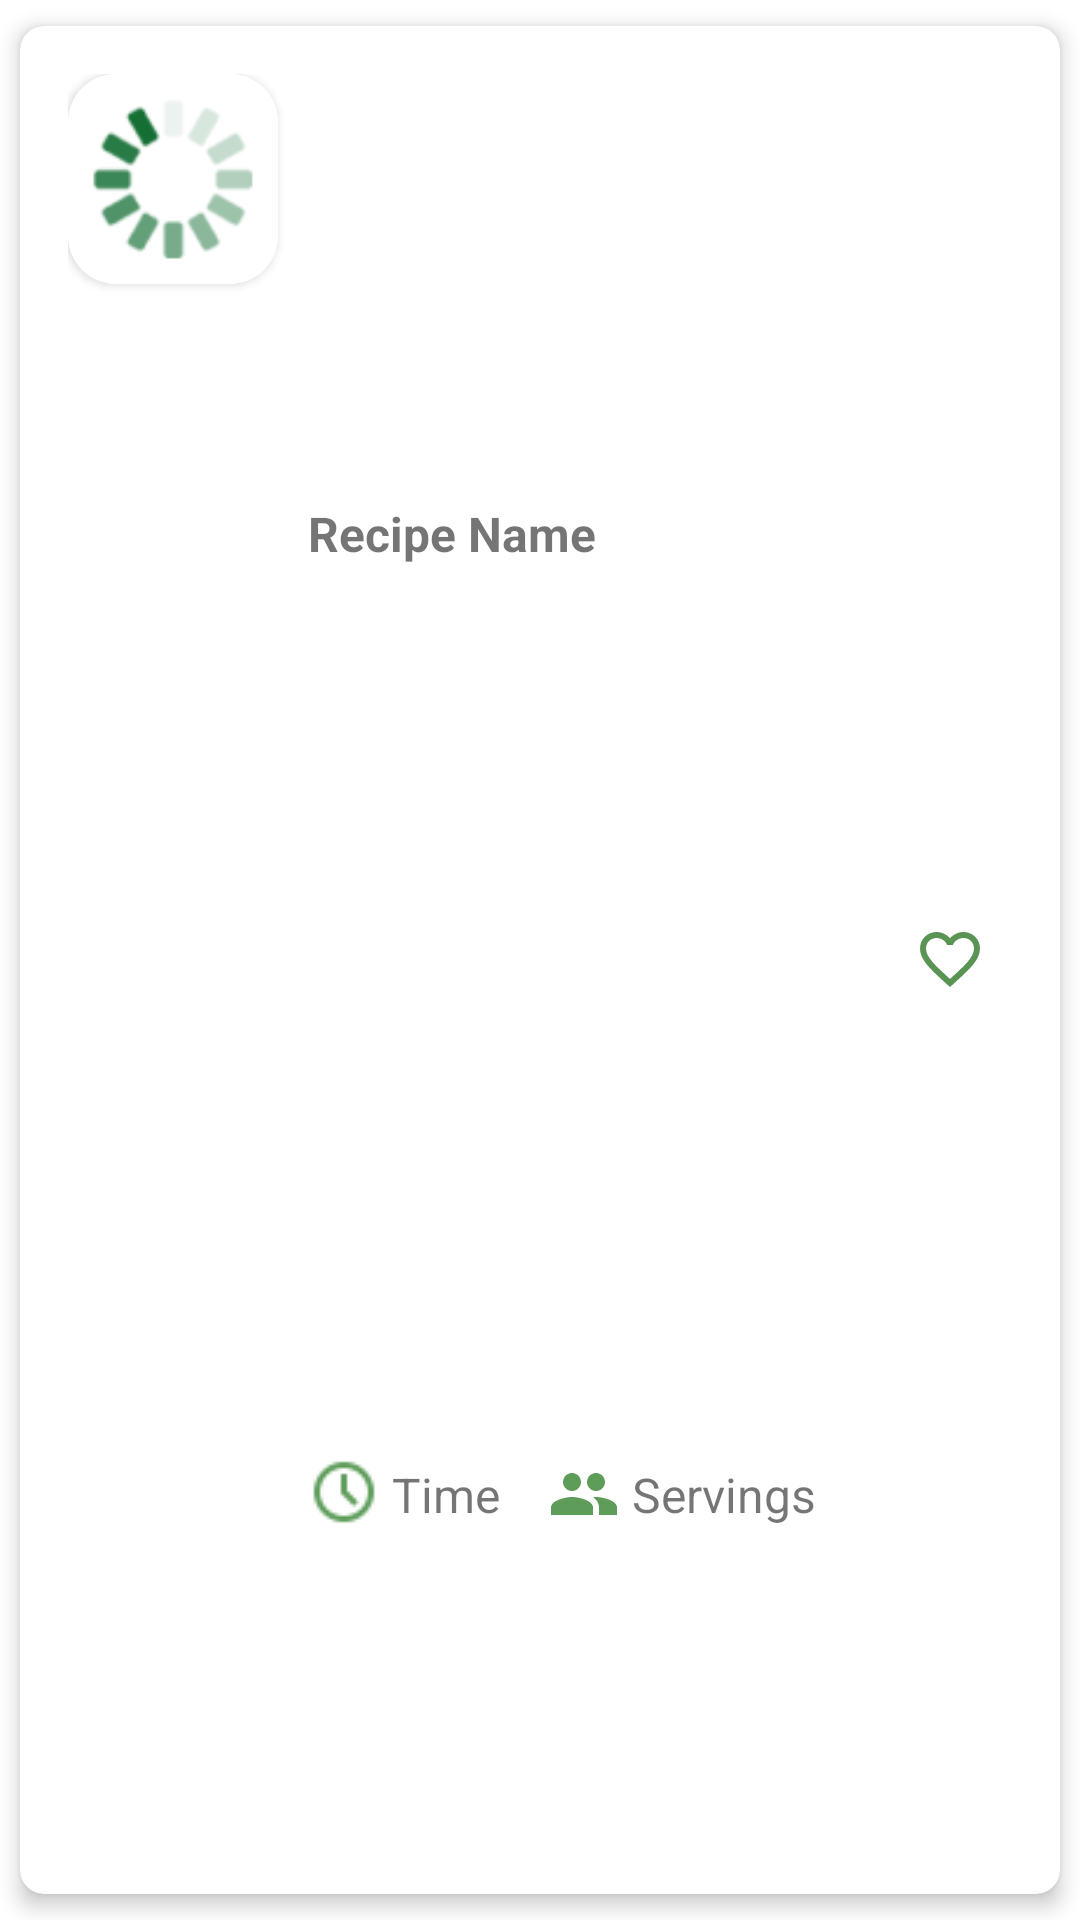

Icon click points for this 1080 x 1920 phone screenshot, format (x,y):
clock: (344,1492)
loading: (160,184)
people: (584,1494)
